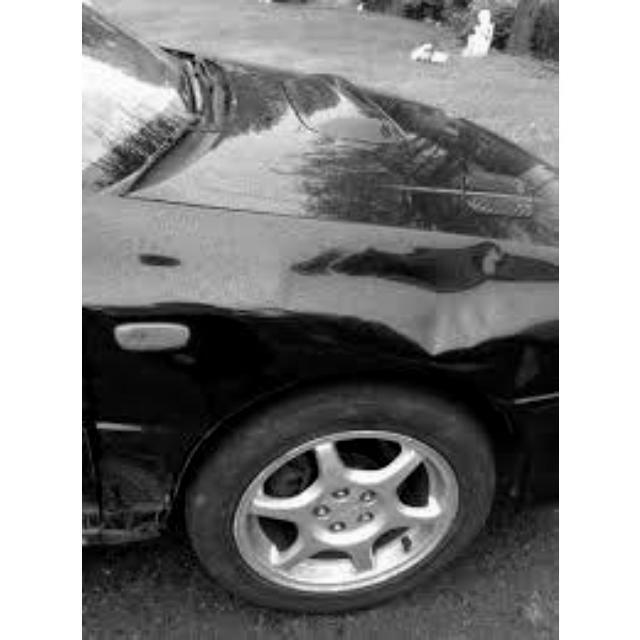bonnet-dent: (175, 60, 556, 261)
fender-dent: (160, 234, 529, 366)
